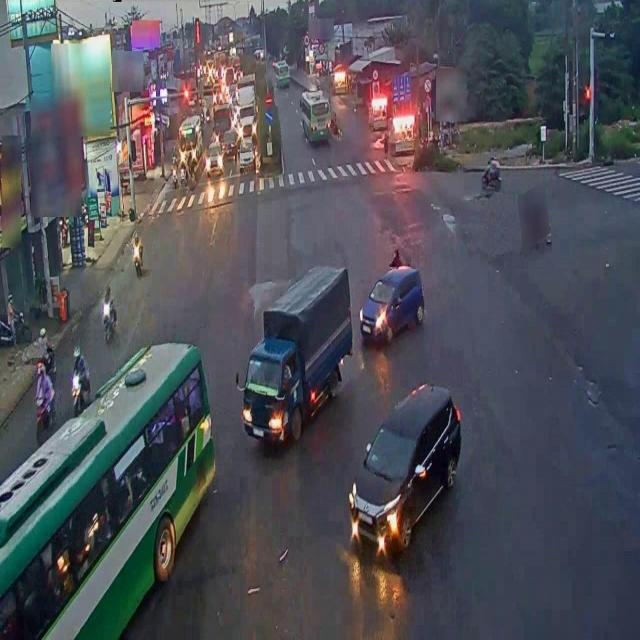bus: (0, 337, 214, 639)
car: (348, 379, 461, 564), (364, 260, 430, 341)
motorcycle: (33, 361, 55, 443), (72, 339, 92, 419), (98, 288, 115, 354)
truck: (243, 264, 354, 441)
